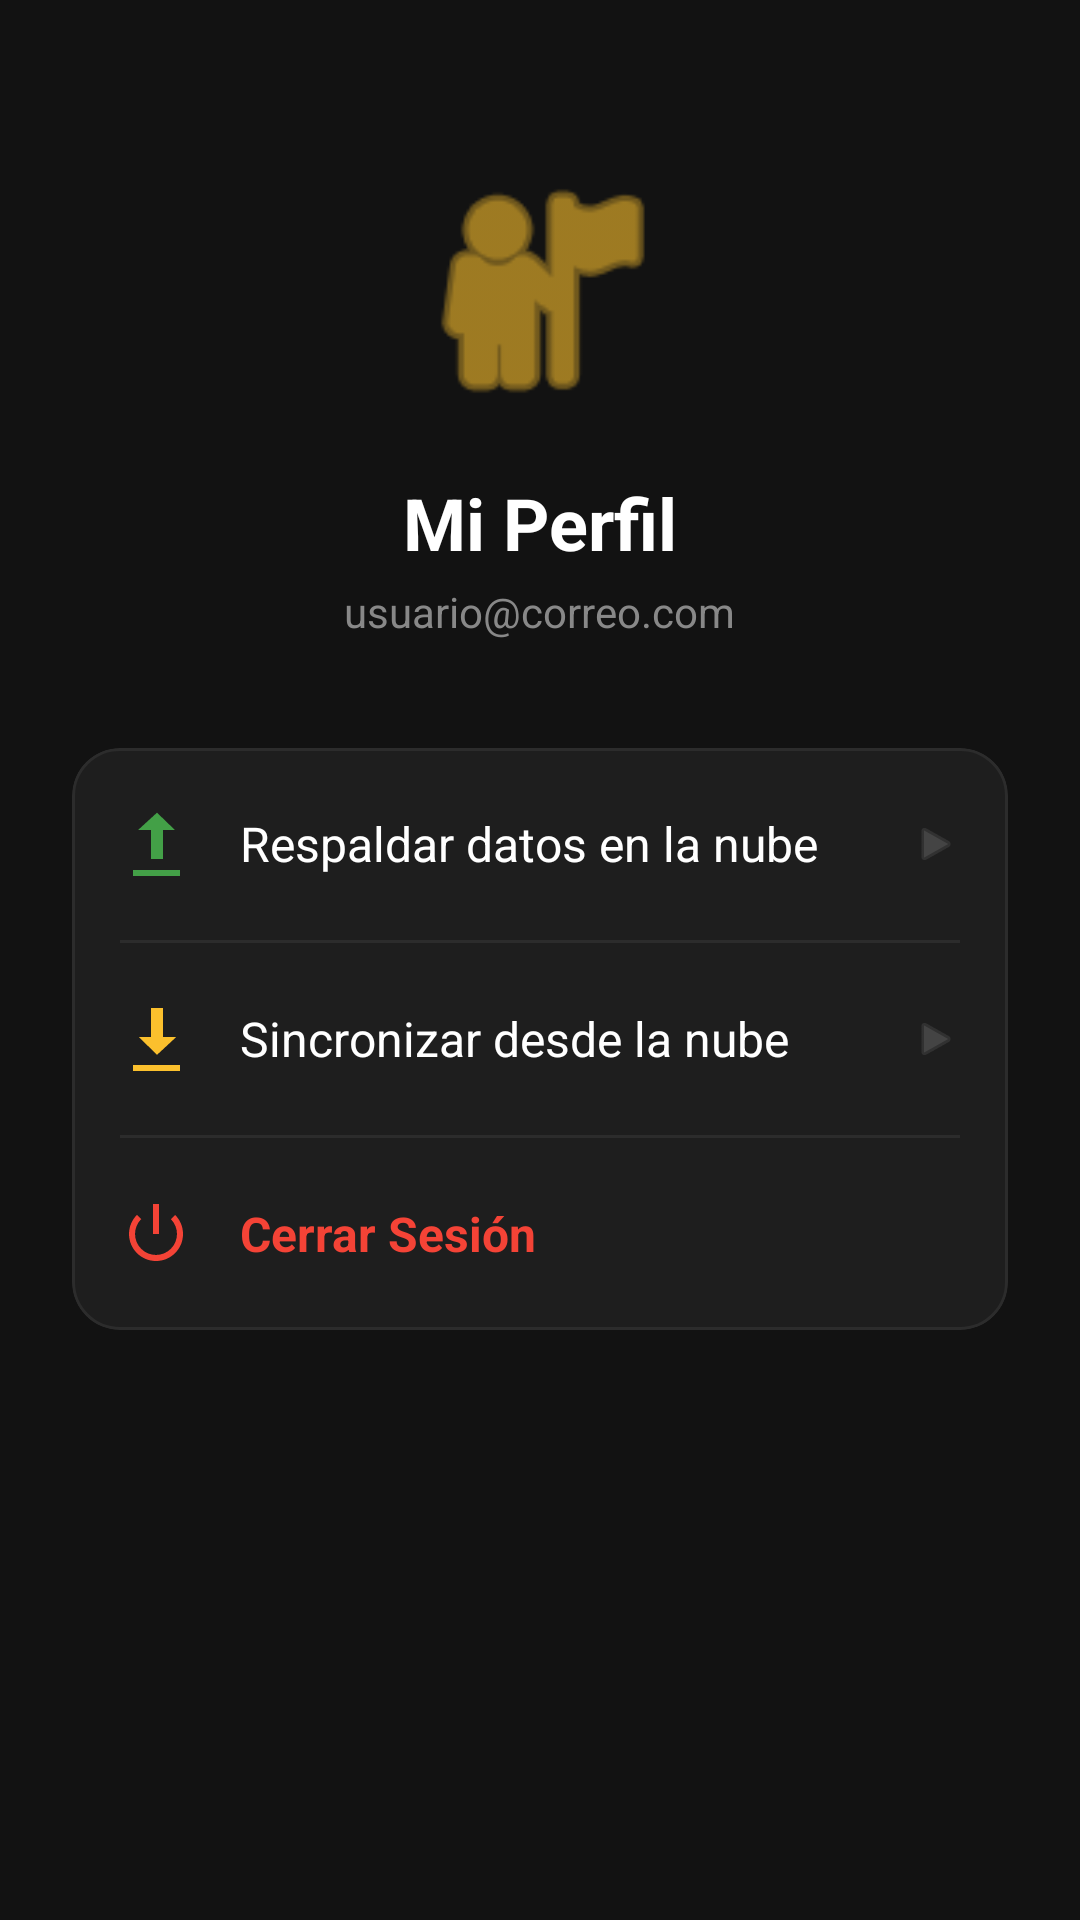

Icon bounding boxes for this 1080 x 1920 phone screenshot, format BBox(x1, y1, x2, y2):
download: BBox(133, 1008, 180, 1071)
lock power off: BBox(129, 1204, 183, 1261)
myplaces: BBox(441, 190, 645, 392)
play: BBox(924, 830, 948, 858), BBox(924, 1025, 948, 1052)
upload: BBox(133, 813, 180, 876)
